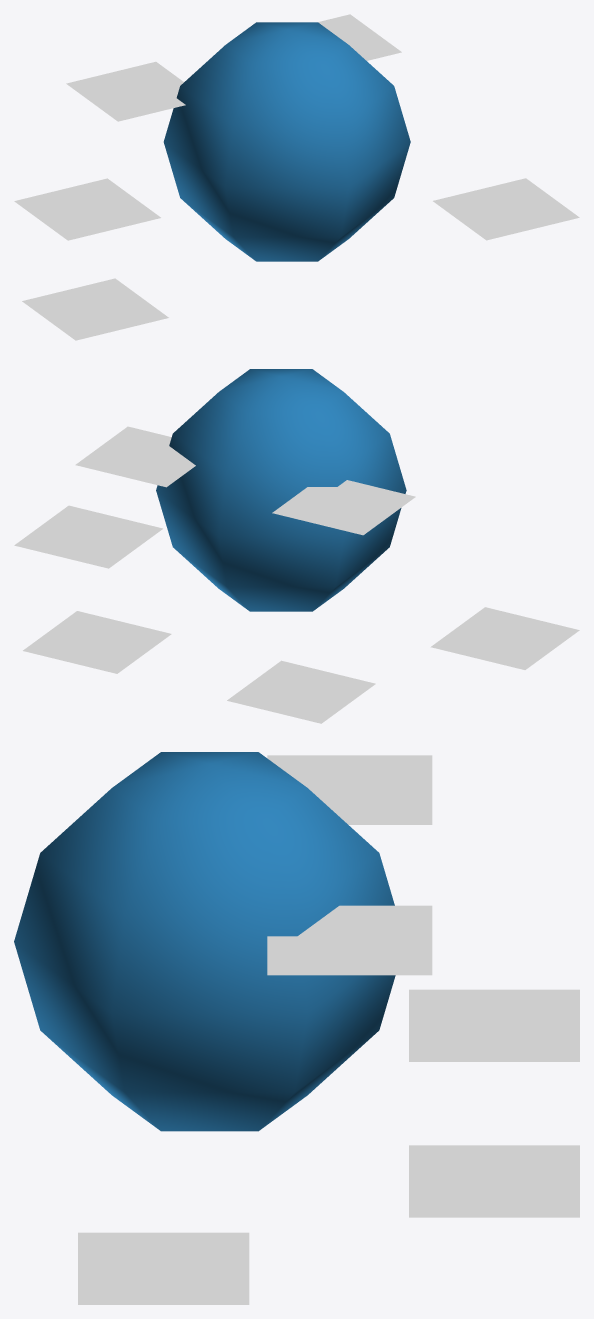
The model's file is blueberries.glb.
3 views of the same model, one above another, from view 1: azimuth 30°, elevation 25°; view 2: azimuth 150°, elevation 25°; view 3: azimuth 270°, elevation 25° (orthographic). The views are drawn at different scales.
Parts seen in each view (by area): view 1: blueberries, blueberries_copy, blueberries_copy.001, blueberries_copy.002, blueberries_copy.004, blueberries_copy.005; view 2: blueberries, blueberries_copy, blueberries_copy.001, blueberries_copy.002, blueberries_copy.003, blueberries_copy.004, blueberries_copy.005; view 3: blueberries, blueberries_copy.001, blueberries_copy.002, blueberries_copy.003, blueberries_copy.005, blueberries_copy.004.
Part boxes in pixels (x1=…): blueberries: x1=163, y1=22, x2=410, y2=261; blueberries_copy: x1=22, y1=278, x2=168, y2=340; blueberries_copy.001: x1=433, y1=178, x2=579, y2=240; blueberries_copy.002: x1=14, y1=178, x2=160, y2=240; blueberries_copy.004: x1=66, y1=61, x2=185, y2=121; blueberries_copy.005: x1=318, y1=14, x2=401, y2=60; blueberries: x1=156, y1=369, x2=406, y2=611; blueberries_copy: x1=430, y1=607, x2=579, y2=669; blueberries_copy.001: x1=14, y1=505, x2=162, y2=568; blueberries_copy.002: x1=227, y1=660, x2=375, y2=723; blueberries_copy.003: x1=23, y1=611, x2=171, y2=673; blueberries_copy.004: x1=272, y1=480, x2=415, y2=535; blueberries_copy.005: x1=75, y1=426, x2=195, y2=487; blueberries: x1=14, y1=752, x2=395, y2=1131; blueberries_copy.001: x1=78, y1=1232, x2=249, y2=1304; blueberries_copy.002: x1=409, y1=989, x2=579, y2=1061; blueberries_copy.003: x1=409, y1=1145, x2=579, y2=1217; blueberries_copy.005: x1=267, y1=905, x2=432, y2=975; blueberries_copy.004: x1=267, y1=755, x2=432, y2=824.
Size of the model in its own units: 0.1107 by 0.047 by 0.0679.
